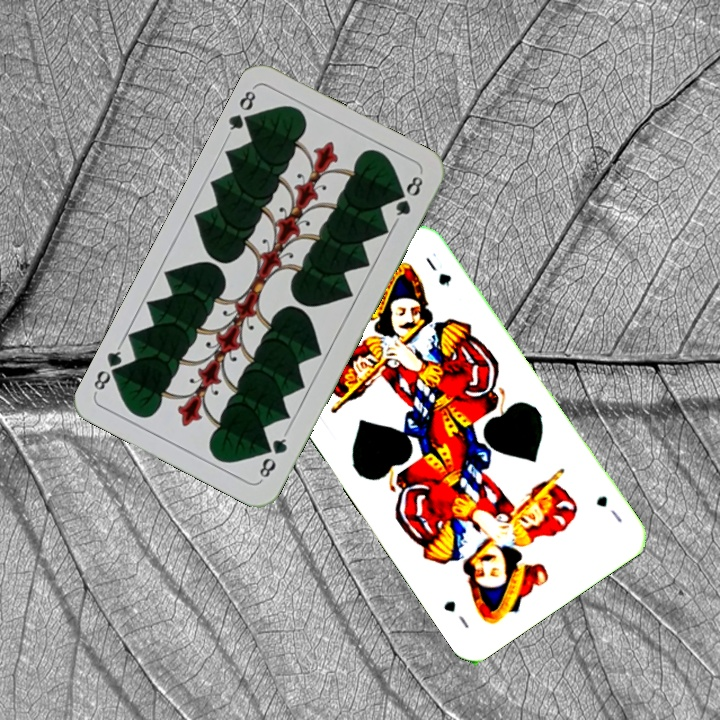G8: (223, 83, 260, 139), (255, 429, 290, 483)
GU: (592, 491, 625, 525)
